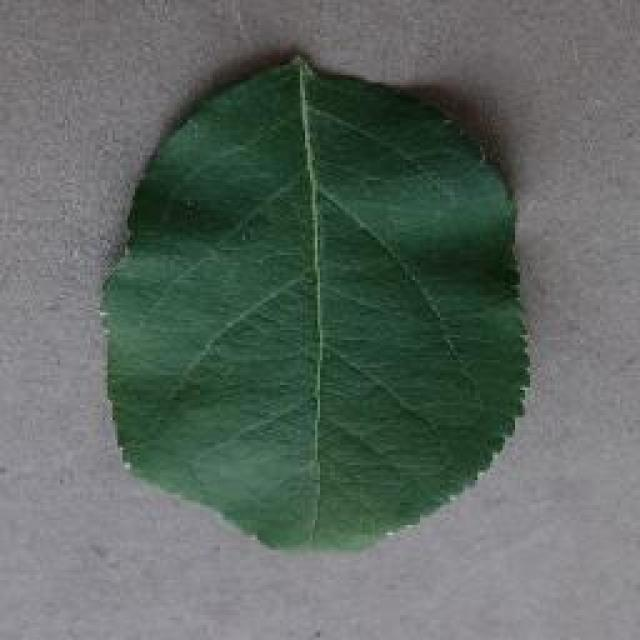apple scab disease: (98, 50, 532, 555)
